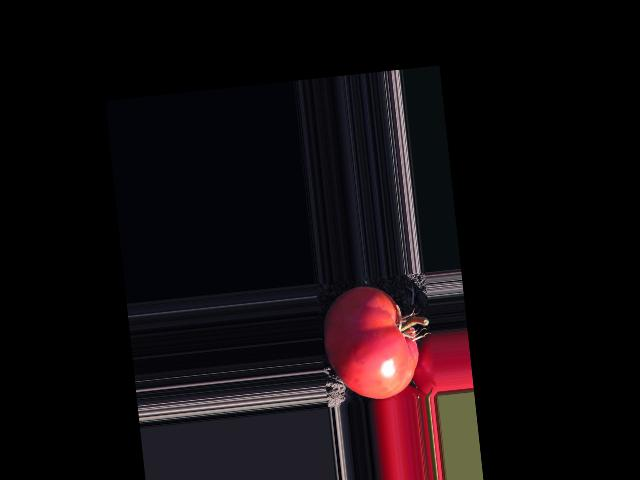tomato: (318, 281, 422, 404)
